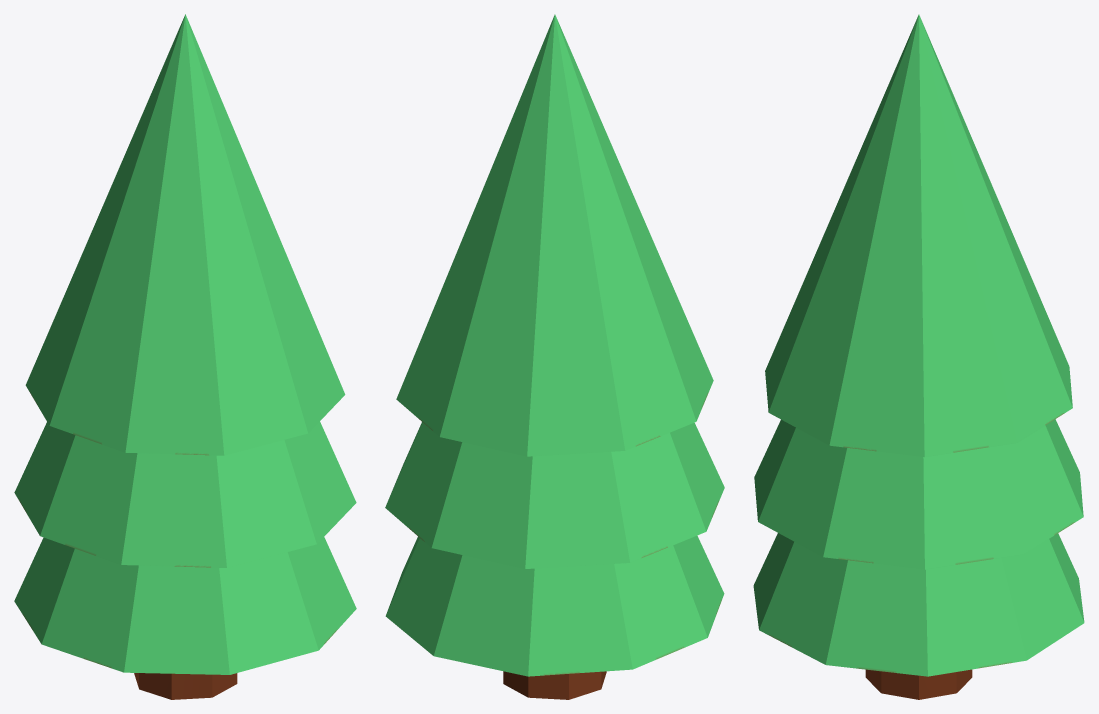
File: Simpletree.fbx
3 views of the same model, side by side, from view 1: azimuth 30°, elevation 25°; view 2: azimuth 150°, elevation 25°; view 3: azimuth 270°, elevation 25° (orthographic).
Visible parts, largest first — view 1: Cylinder; view 2: Cylinder; view 3: Cylinder.
Part boxes in pixels (box(x1,y1,x2,y2)): Cylinder: box(14, 14, 356, 699); Cylinder: box(385, 14, 724, 699); Cylinder: box(753, 14, 1084, 699).
Bounding box in the file's own units: 52.16 × 111 × 50.42.
2 materials, 2 textured.
